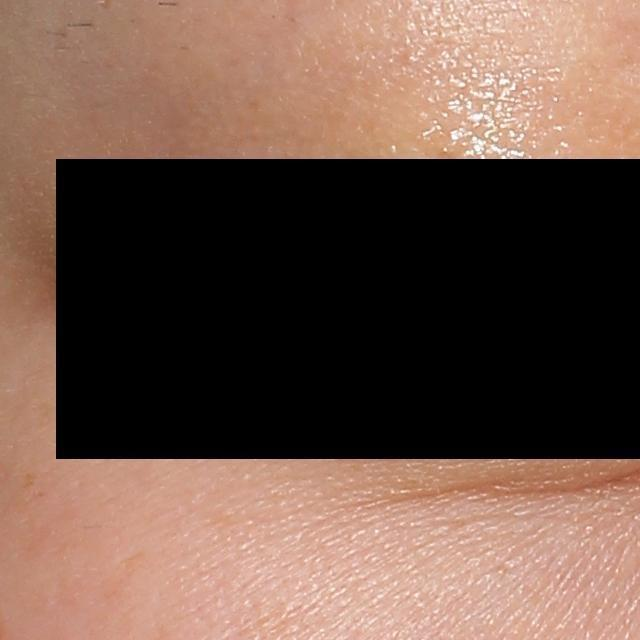melasma: (22, 468, 40, 490)
